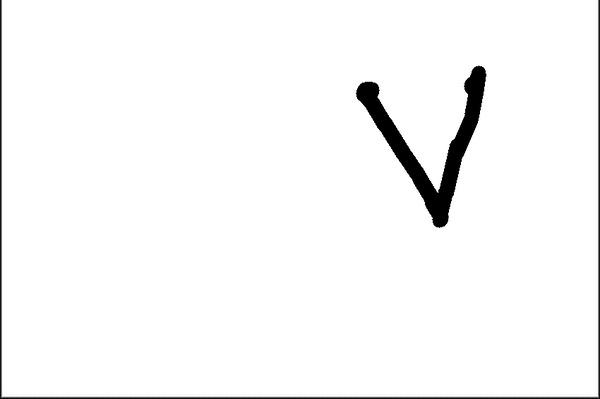V: (337, 59, 494, 236)
